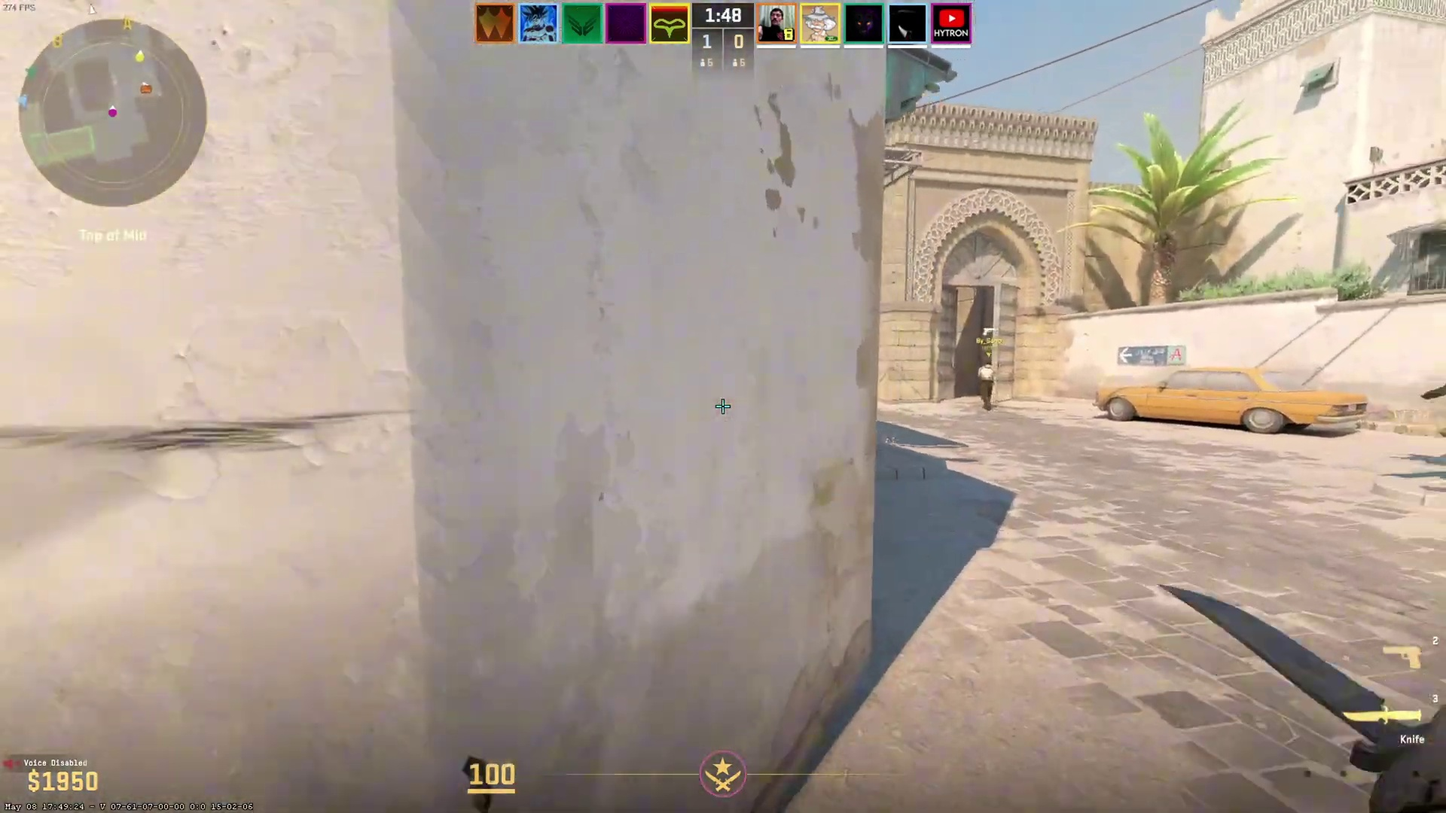Terrorist: (976, 359, 996, 411)
